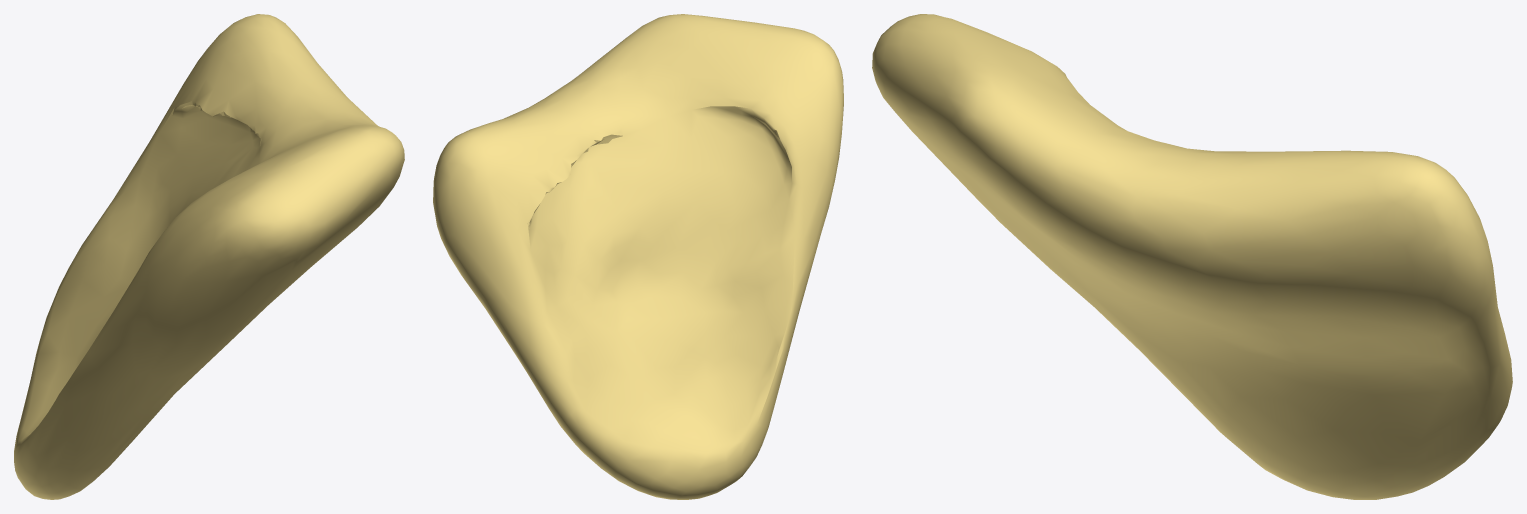
Rendered from fma73544_mm2863.glb.
3 renders of one model, left to right at view 1: azimuth 30°, elevation 25°; view 2: azimuth 150°, elevation 25°; view 3: azimuth 270°, elevation 25°, orthographic. The views are drawn at different scales.
Parts seen in each view (by area): view 1: FMA73544_MM2863; view 2: FMA73544_MM2863; view 3: FMA73544_MM2863.
Boxes of the visible parts, box(x1,y1,x2,y2) form: FMA73544_MM2863: box(14, 14, 404, 499); FMA73544_MM2863: box(433, 14, 843, 499); FMA73544_MM2863: box(872, 14, 1512, 499).
Size of the model in its own units: 0.0104 by 0.0131 by 0.0148.
